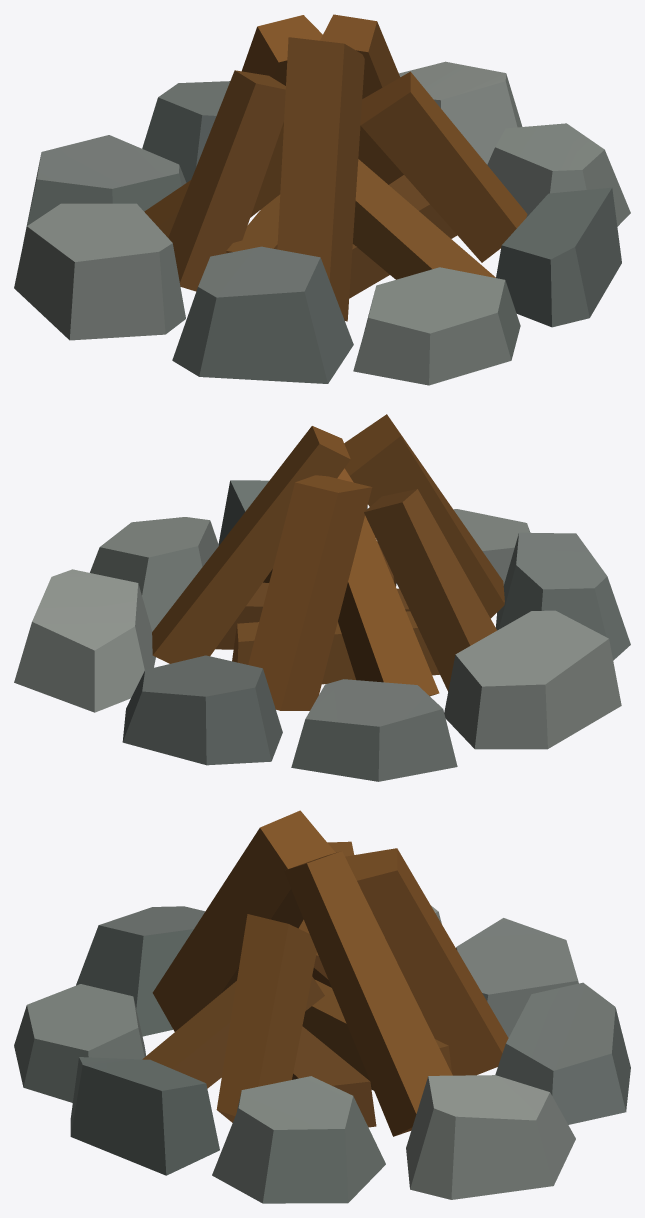
Rendered from SM_Bonfire_A.fbx.
3 renders of one model, top to bottom at view 1: azimuth 30°, elevation 25°; view 2: azimuth 150°, elevation 25°; view 3: azimuth 270°, elevation 25°, orthographic. The views are drawn at different scales.
Parts seen in each view (by area): view 1: SM_Bonfire_A; view 2: SM_Bonfire_A; view 3: SM_Bonfire_A.
Boxes of the visible parts, x1=… form: SM_Bonfire_A: x1=14, y1=14, x2=630, y2=385; SM_Bonfire_A: x1=14, y1=414, x2=630, y2=781; SM_Bonfire_A: x1=14, y1=810, x2=630, y2=1203.
Size of the model in its own units: 96.82 by 40.7 by 95.14.
